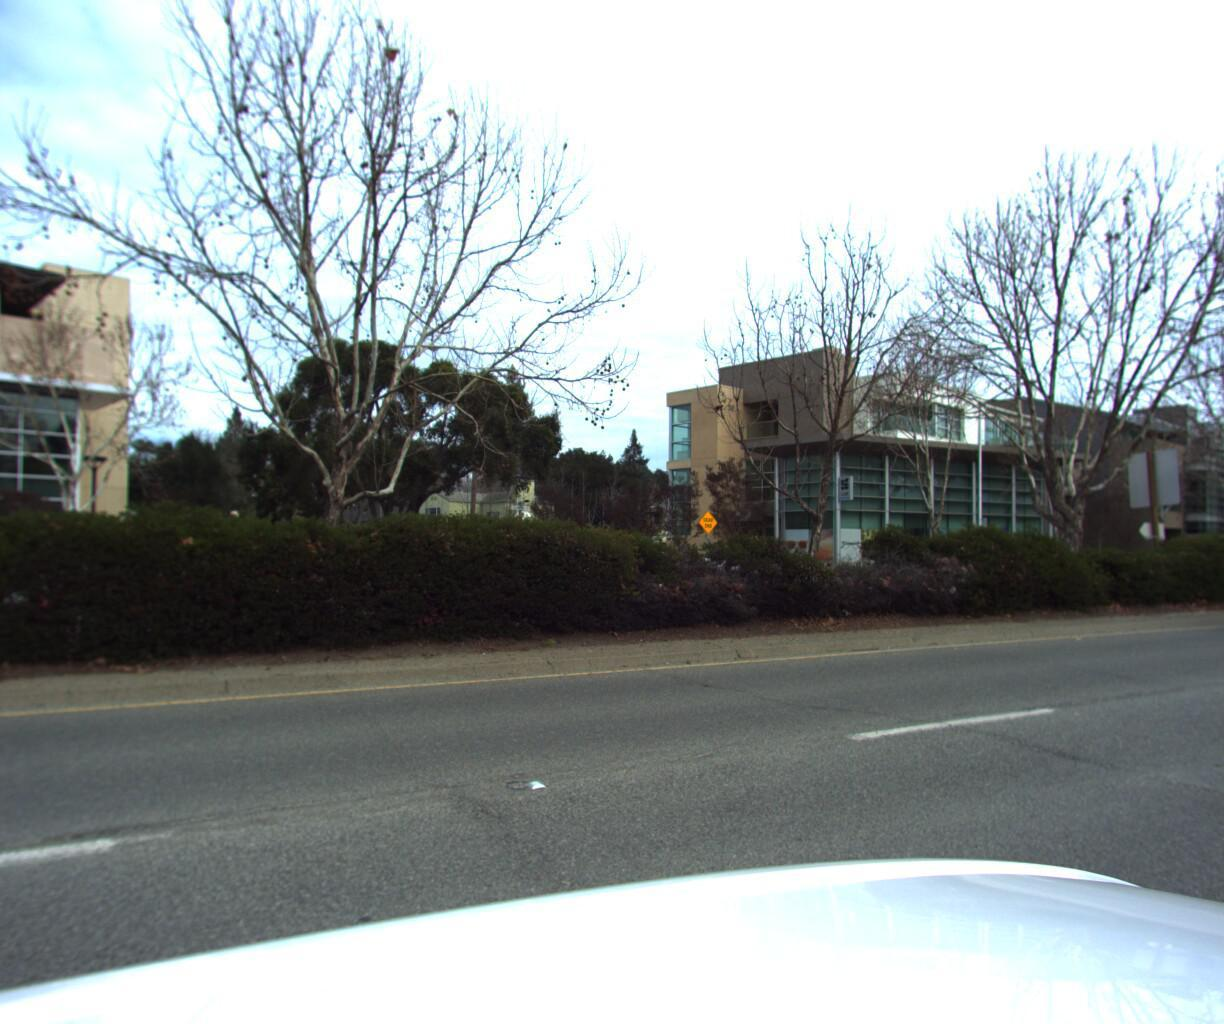car: (0, 511, 131, 636)
